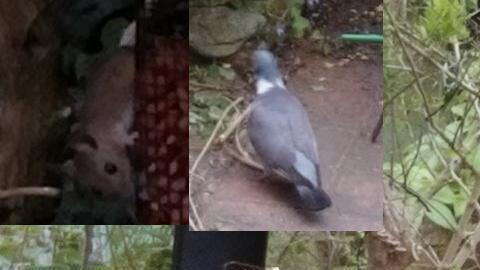mouse: (62, 50, 139, 200)
wood pigeon: (245, 50, 333, 213)
